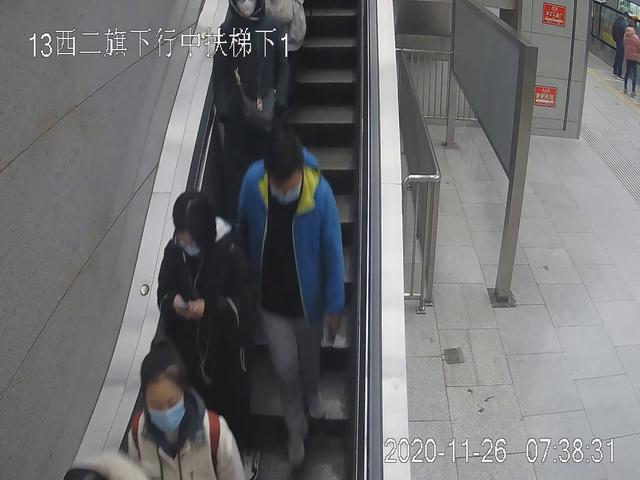person: (240, 139, 346, 470), (158, 191, 244, 480), (215, 1, 288, 239), (124, 341, 246, 480), (618, 24, 640, 98), (613, 8, 631, 78)
